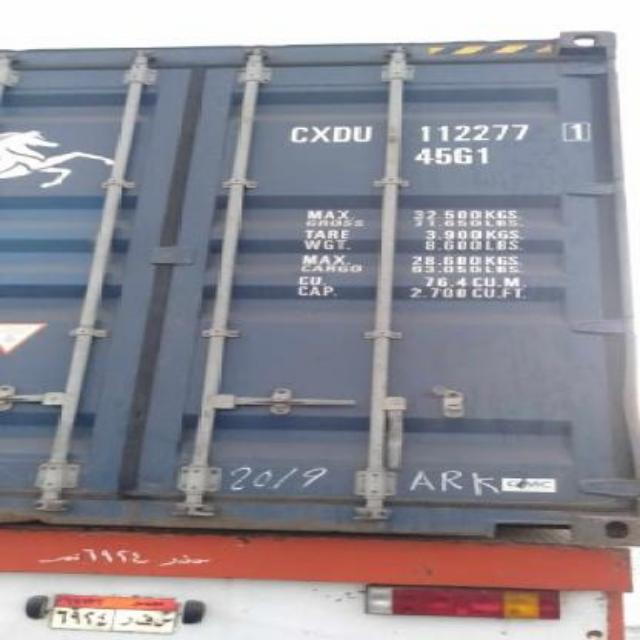1: (566, 124, 584, 140), (418, 124, 434, 140), (436, 124, 452, 140)
2: (471, 122, 492, 142), (452, 123, 470, 141)
7: (508, 122, 528, 142), (492, 124, 512, 140)
C: (288, 124, 308, 144)
D: (332, 125, 352, 143)
U: (354, 126, 374, 144)
X: (312, 125, 330, 145)
